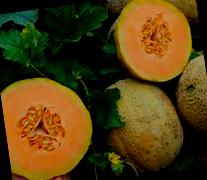Melon Ripe: (0, 69, 98, 180), (91, 72, 188, 178), (109, 0, 196, 86)
